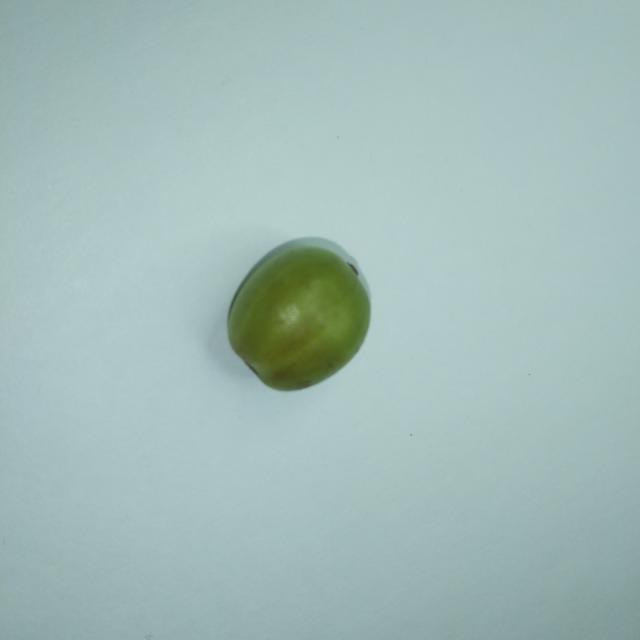Sano: (228, 238, 370, 390)
